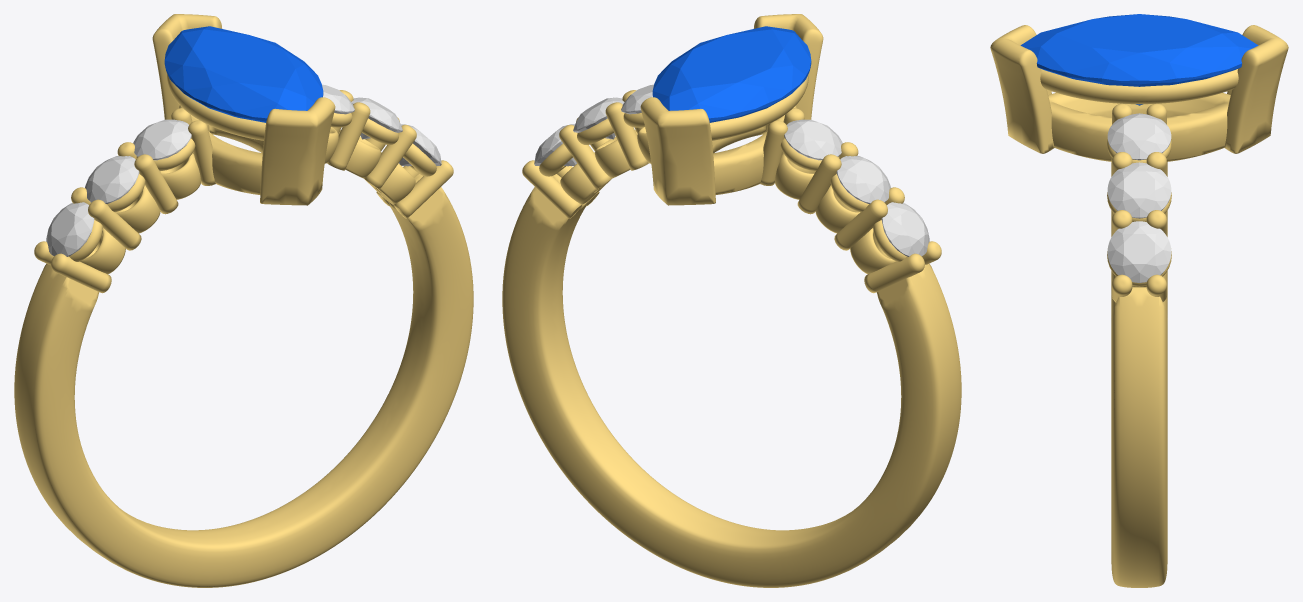
File: bluesapphire-marquise-yellowgold-protectededges2prongs-straightband-7stone.glb
3 renders of one model, left to right at view 1: azimuth 30°, elevation 25°; view 2: azimuth 150°, elevation 25°; view 3: azimuth 270°, elevation 25°, orthographic. The views are drawn at different scales.
Parts seen in each view (by area): view 1: metal, stone.002, dia.001, dia.009, dia.010, dia.012; view 2: metal, stone.002, dia.001, dia.009, dia.010, dia.012; view 3: metal, stone.002, dia.011, dia.012, dia.013.
Part boxes in pixels (bbox=[...]): metal: bbox=[14, 14, 473, 587]; stone.002: bbox=[164, 26, 323, 122]; dia.001: bbox=[46, 202, 94, 256]; dia.009: bbox=[85, 156, 139, 203]; dia.010: bbox=[133, 119, 191, 160]; dia.012: bbox=[351, 97, 402, 139]; metal: bbox=[502, 14, 961, 587]; stone.002: bbox=[652, 26, 811, 122]; dia.001: bbox=[881, 202, 929, 256]; dia.009: bbox=[836, 156, 890, 203]; dia.010: bbox=[784, 119, 842, 160]; dia.012: bbox=[573, 97, 624, 139]; metal: bbox=[990, 25, 1288, 587]; stone.002: bbox=[1020, 14, 1258, 105]; dia.011: bbox=[1107, 221, 1171, 282]; dia.012: bbox=[1107, 162, 1171, 218]; dia.013: bbox=[1107, 113, 1171, 160].
Bounding box in the file's own units: 20.5 × 22.94 × 11.69.
